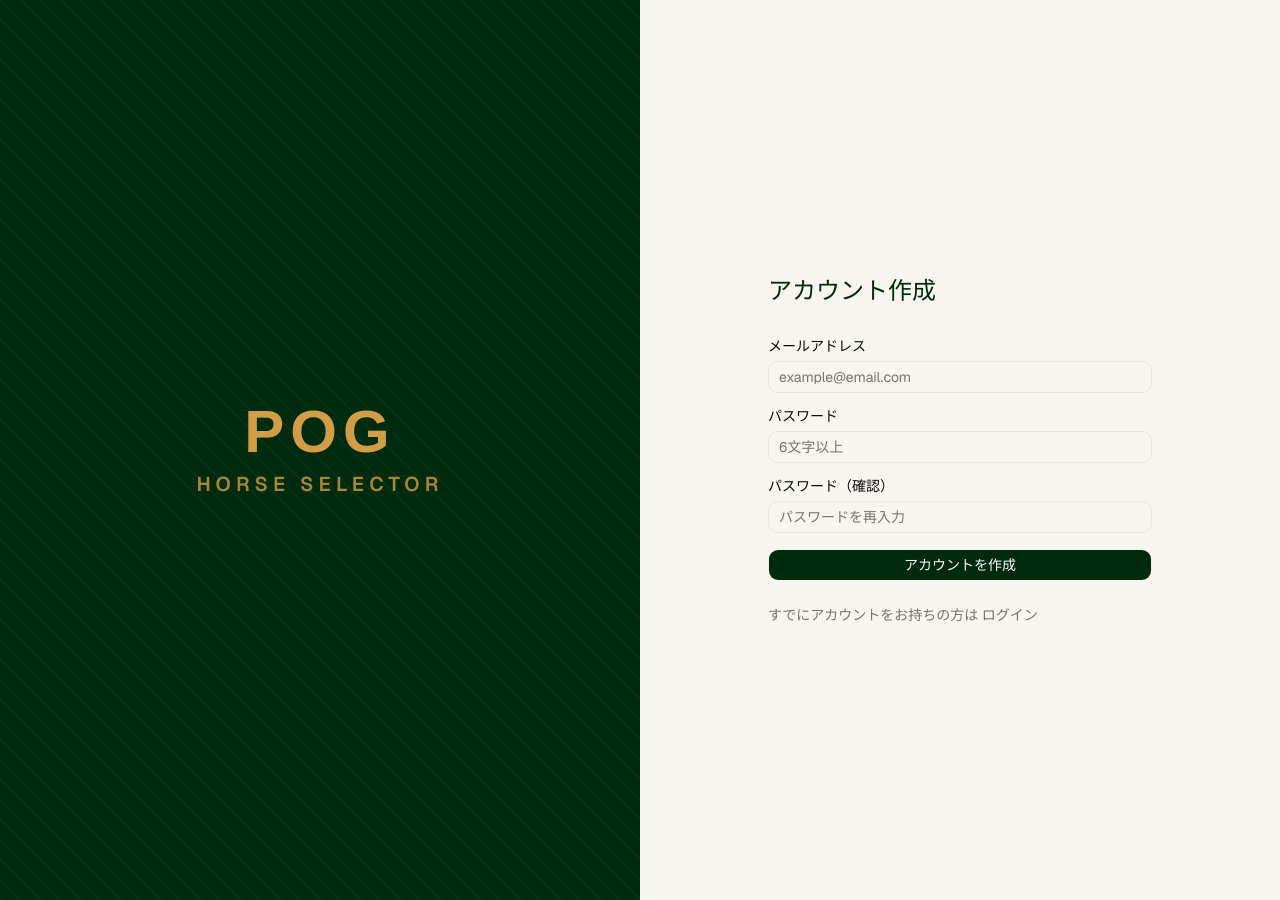
Test: SignupPage › メール確認画面でもアプリタイトルが表示される
Type "test@example.com" into the field labelled "メールアドレス".
click(960, 377); type("test@example.com")  # box 768,361 -> 1152,393
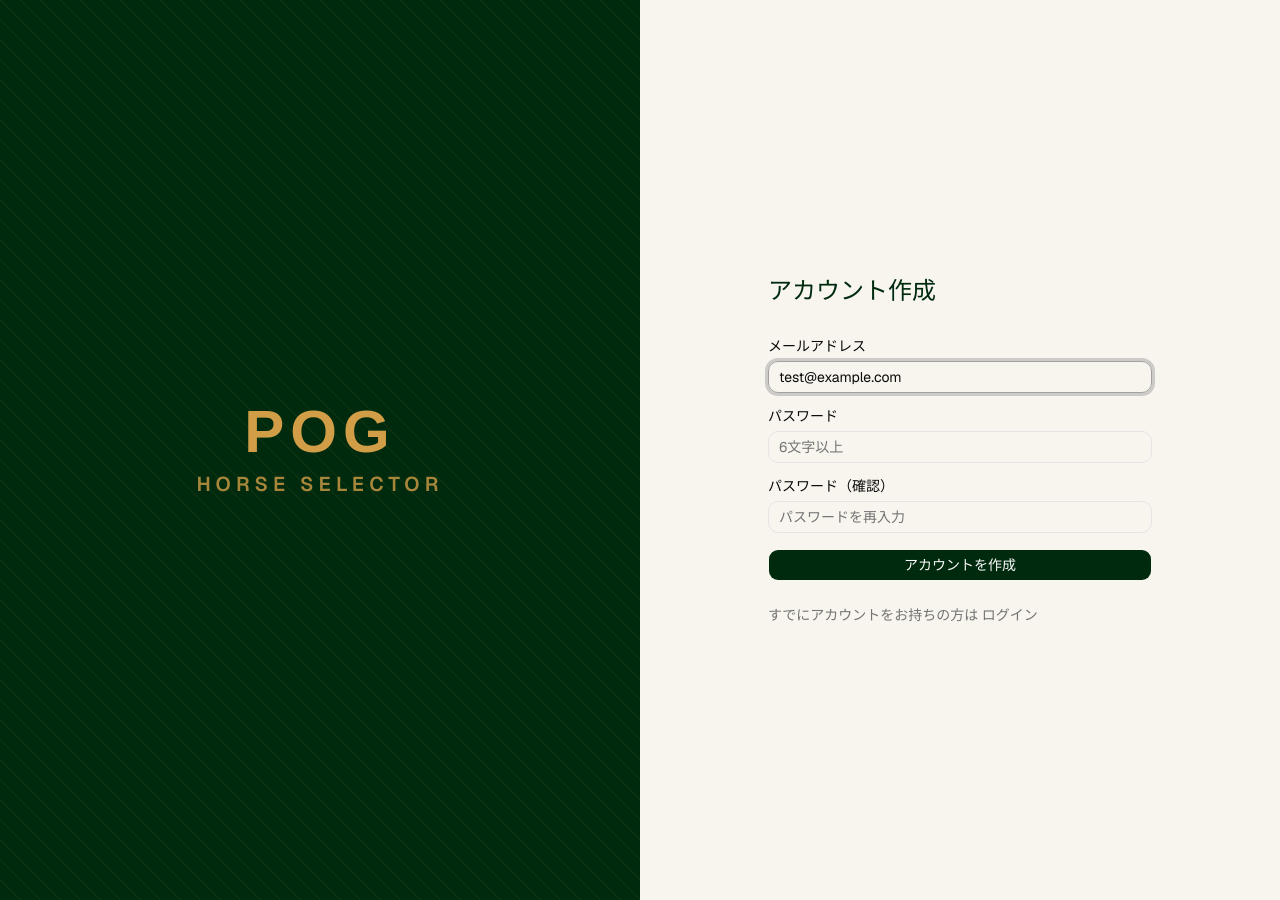
Type "password123" into the password field labelled "パスワード".
click(960, 447); type("password123")  # box 768,431 -> 1152,463
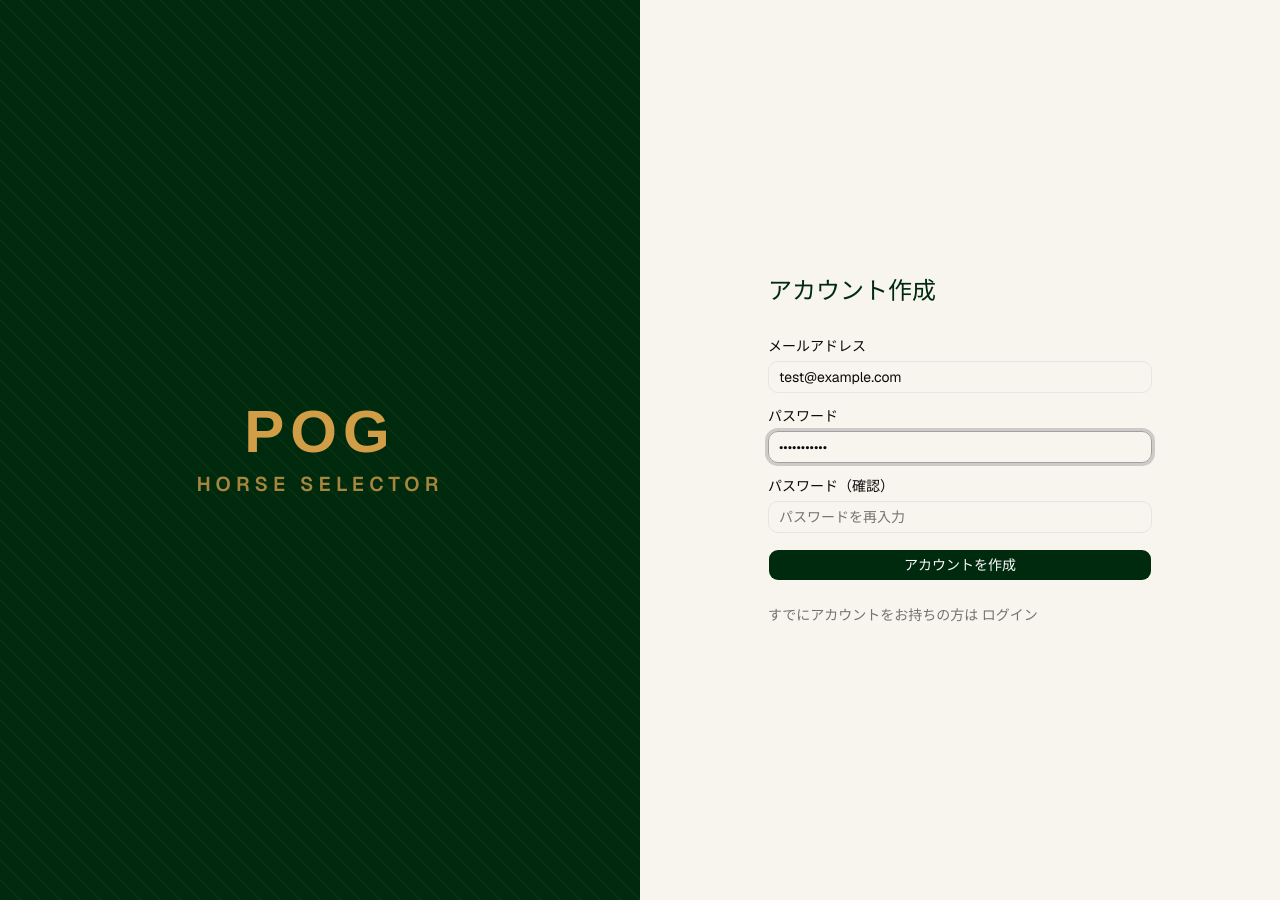
Type "password123" into the password field labelled "パスワード（確認）".
click(960, 517); type("password123")  # box 768,501 -> 1152,533
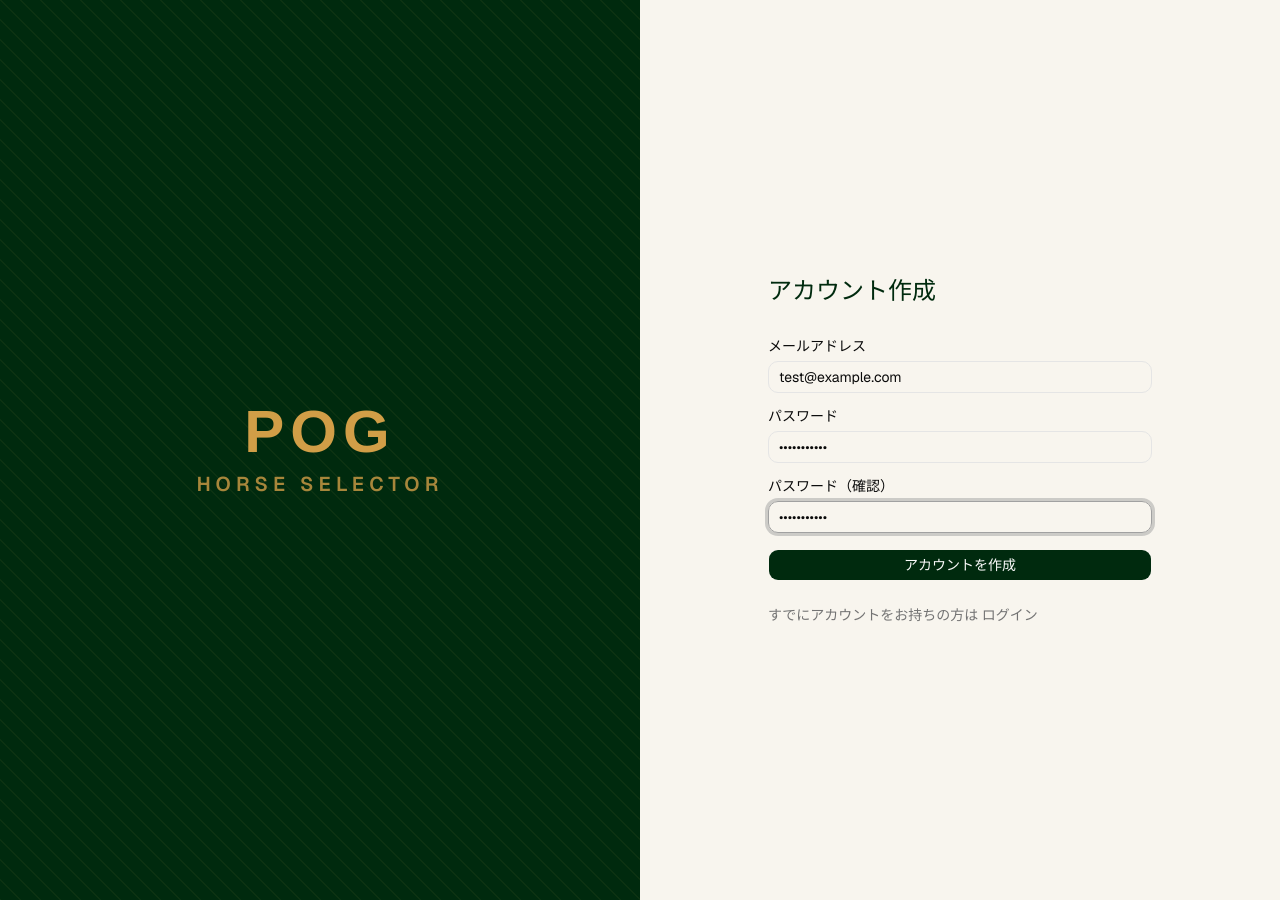
Click the button "アカウントを作成".
click(960, 565)  # box 768,549 -> 1152,581
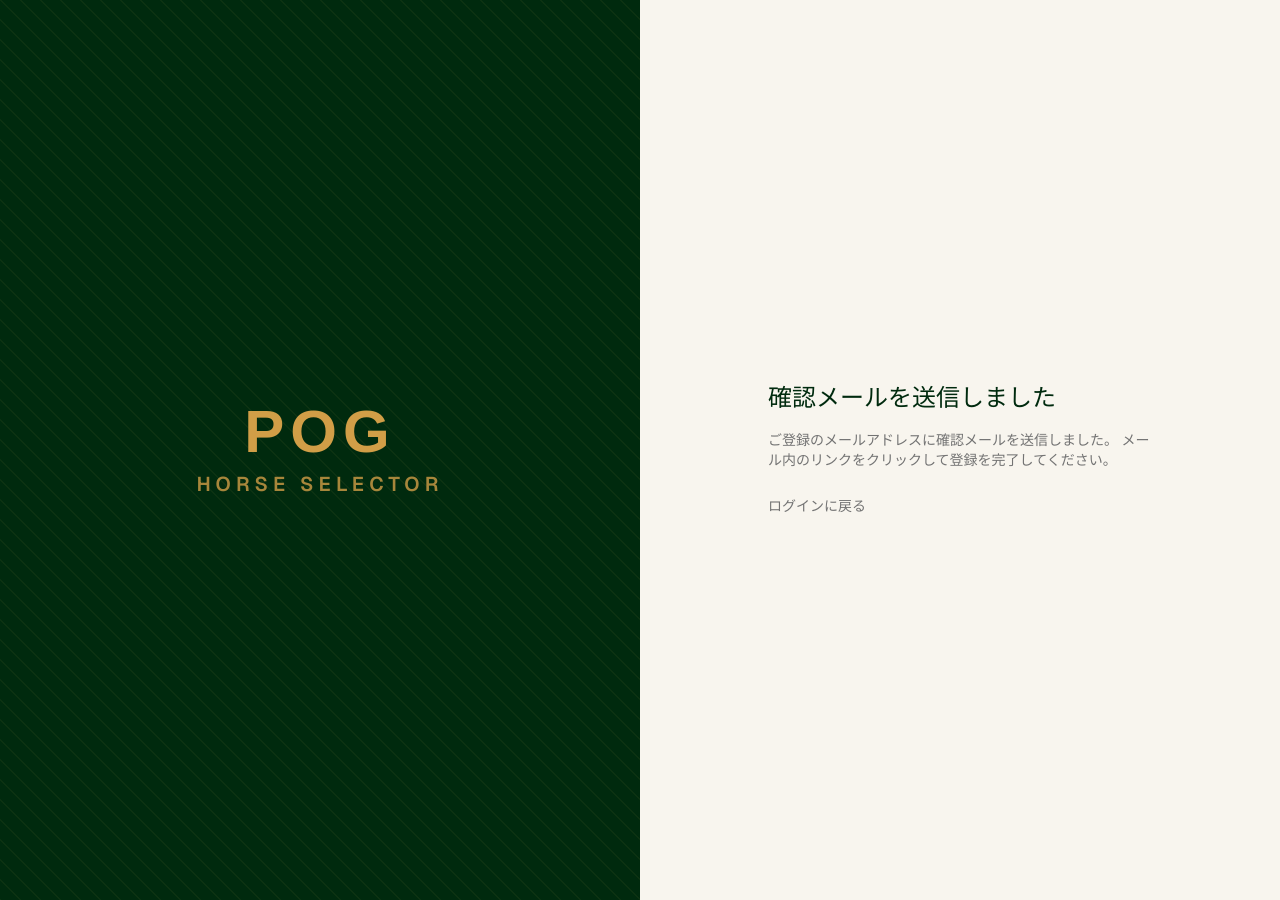
Check: the heading "確認メールを送信しました" is shown, box 768,384 -> 1056,411
